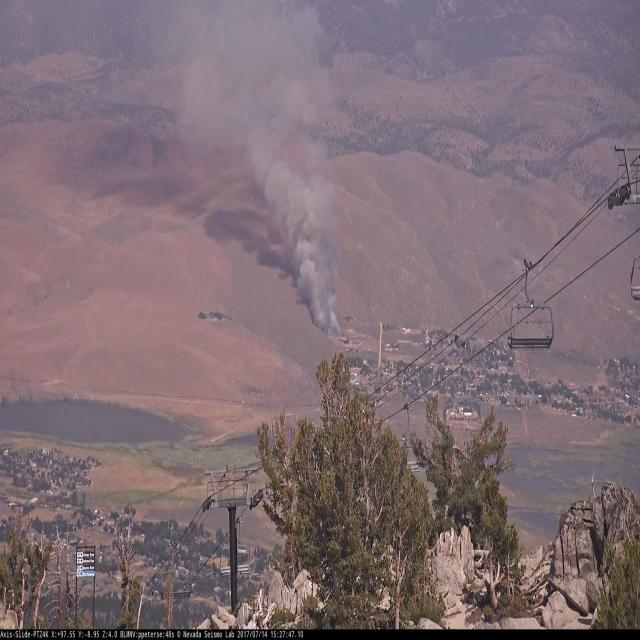smoke: (140, 5, 347, 339)
